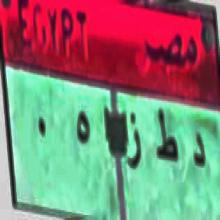0: (30, 109, 52, 149)
5: (64, 100, 96, 160)
Taa: (153, 102, 178, 178)
daal: (187, 126, 210, 182)
zay: (124, 104, 145, 183)
